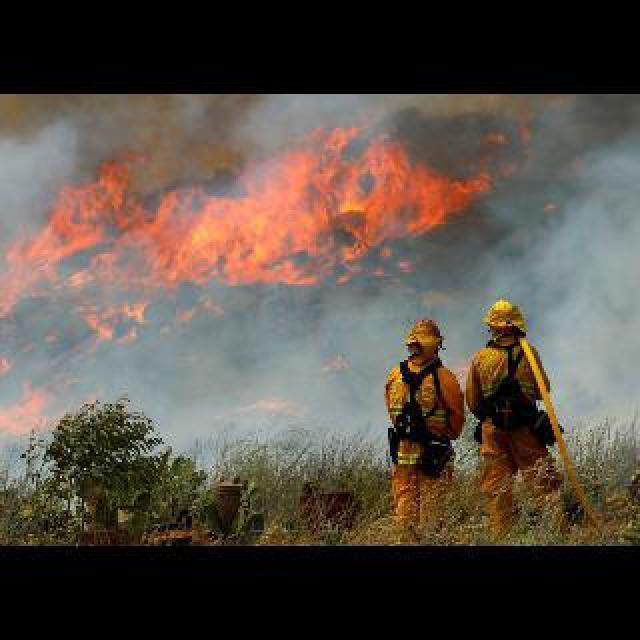Fire: (8, 110, 504, 324)
Smoke: (336, 210, 532, 305), (400, 97, 535, 185)
